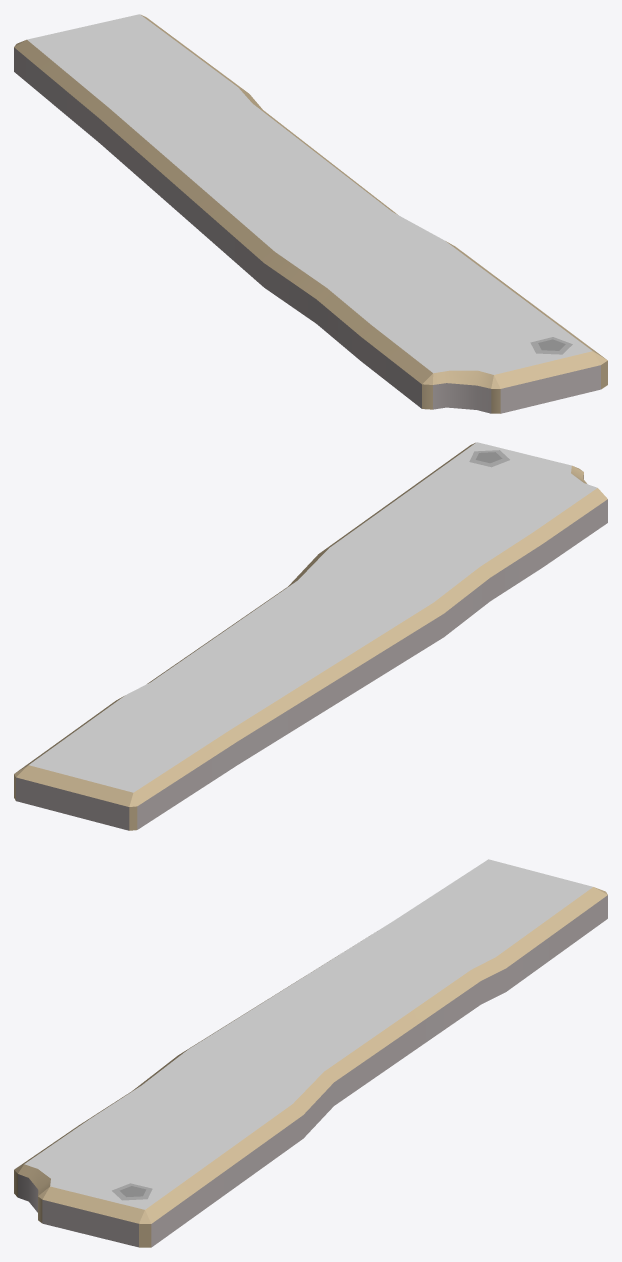
The model's file is WoodBoardD_1.glb.
3 renders of one model, top to bottom at view 1: azimuth 30°, elevation 25°; view 2: azimuth 150°, elevation 25°; view 3: azimuth 330°, elevation 25°, orthographic. The views are drawn at different scales.
Visible parts, largest first — view 1: WoodBoardD; view 2: WoodBoardD; view 3: WoodBoardD.
Boxes of the visible parts, bbox=[...] form: WoodBoardD: bbox=[14, 14, 607, 413]; WoodBoardD: bbox=[14, 442, 607, 830]; WoodBoardD: bbox=[14, 859, 607, 1247].
Bounding box in the file's own units: 0.765 × 0.1497 × 3.71.
